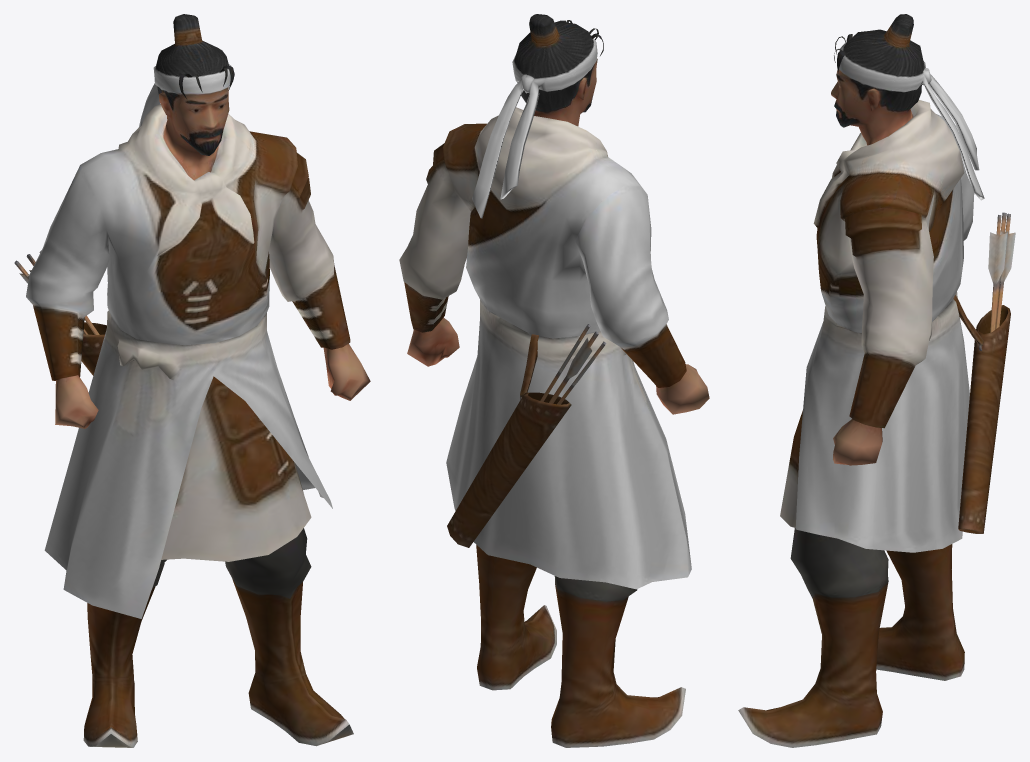
File: 65-pioneer.glb
The picture shows the model from 3 angles, left to right: view 1: azimuth 30°, elevation 25°; view 2: azimuth 150°, elevation 25°; view 3: azimuth 270°, elevation 25°; orthographic projection. The views are drawn at different scales.
Bounding box in the file's own units: 1.14 × 2.52 × 0.9261.
1 material, 1 textured.
